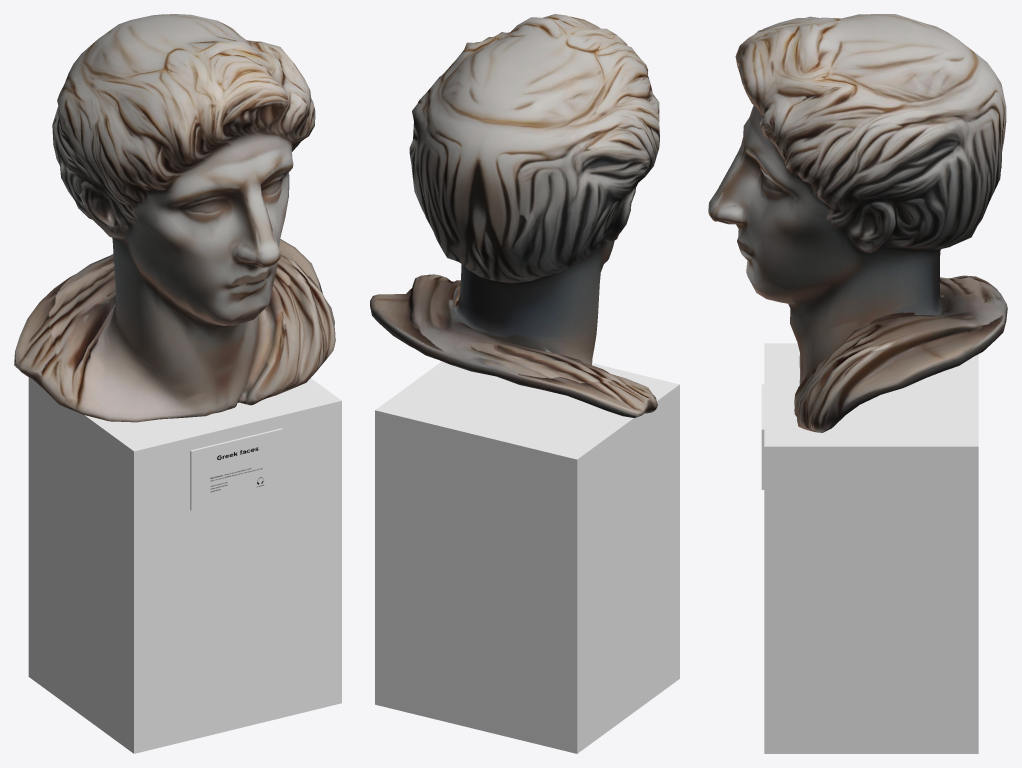
Rendered from Statue 2.fbx.
The picture shows the model from 3 angles, left to right: view 1: azimuth 30°, elevation 25°; view 2: azimuth 150°, elevation 25°; view 3: azimuth 270°, elevation 25°; orthographic projection. The views are drawn at different scales.
Parts seen in each view (by area): view 1: Statue 2; view 2: Statue 2; view 3: Statue 2.
Part boxes in pixels (bbox=[...]): Statue 2: bbox=[14, 14, 341, 753]; Statue 2: bbox=[370, 14, 679, 753]; Statue 2: bbox=[708, 14, 1007, 753].
Bounding box in the file's own units: 85.66 × 194 × 77.38.
2 materials, 2 textured.
